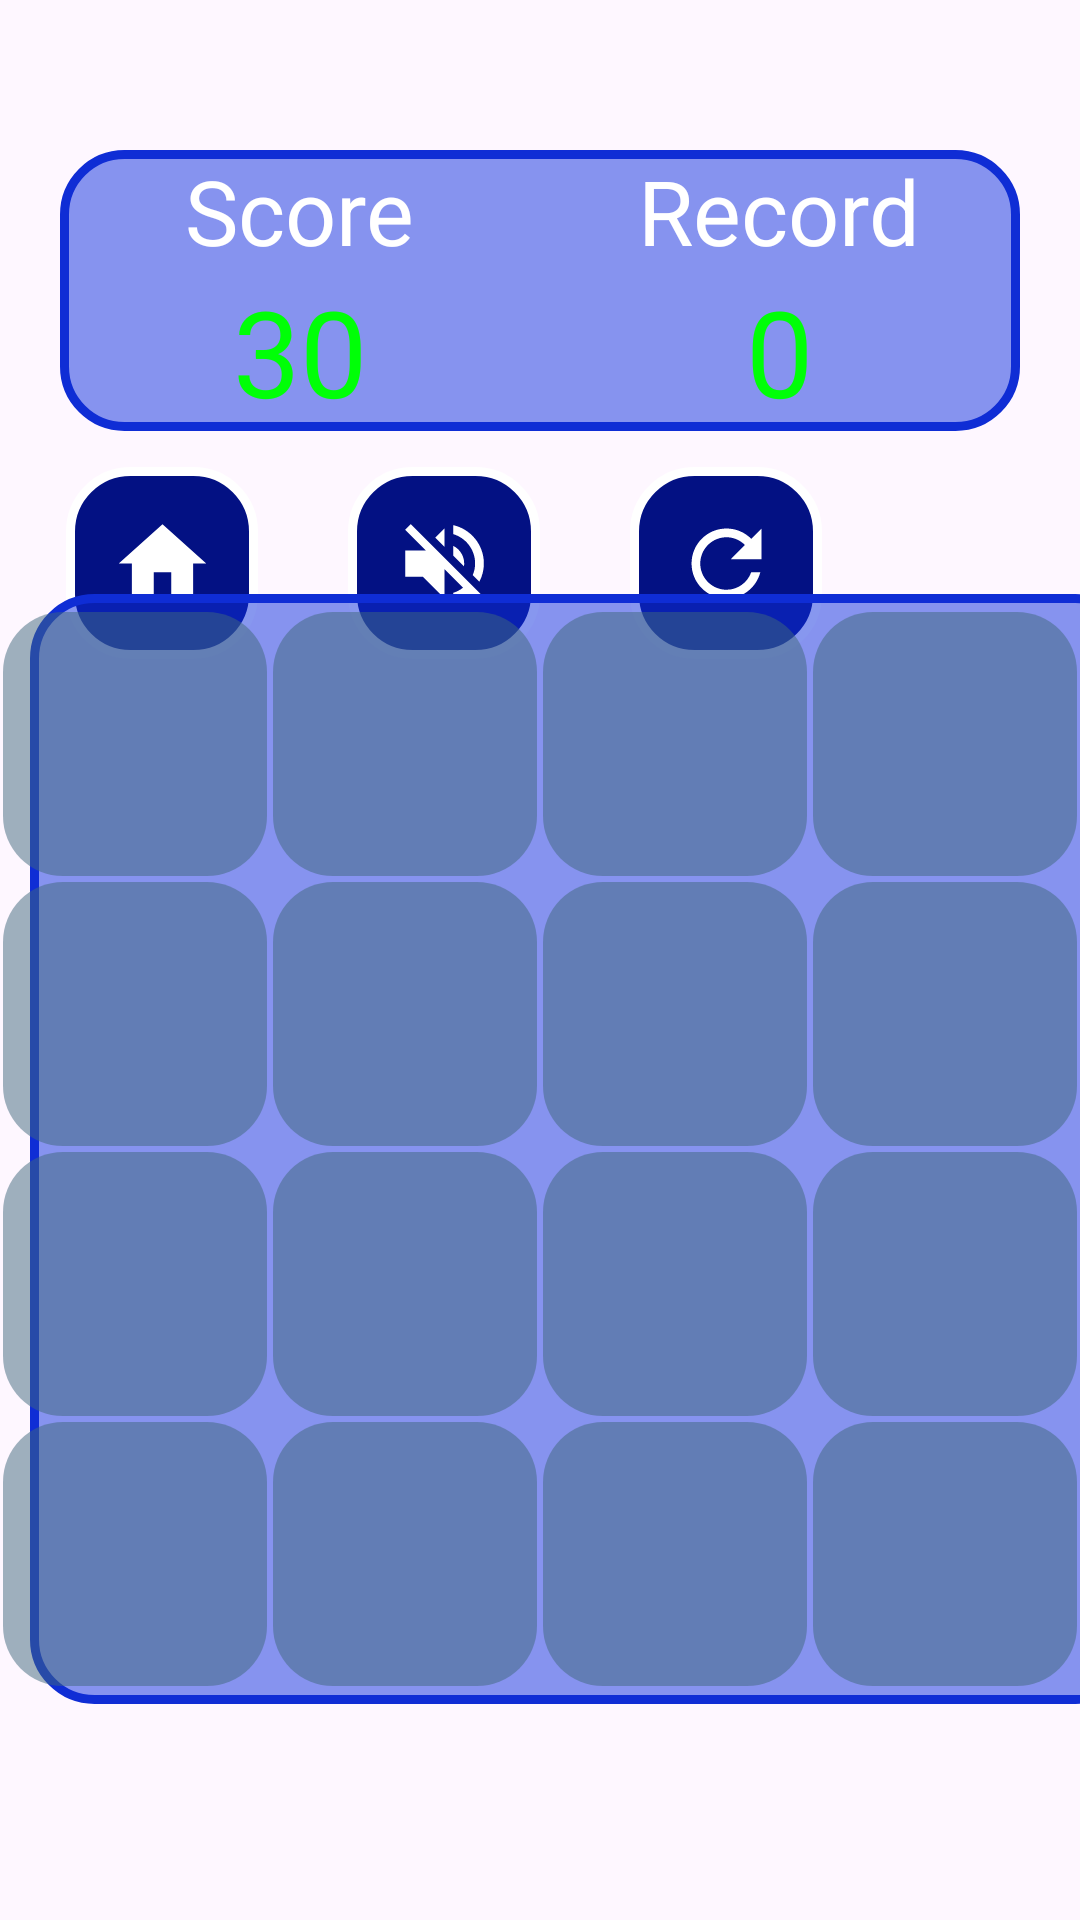

Named icons in this screenshot (1080x1920) and their centers, [x,y]:
home: [162,563]
restart: [726,563]
sound off: [444,563]
